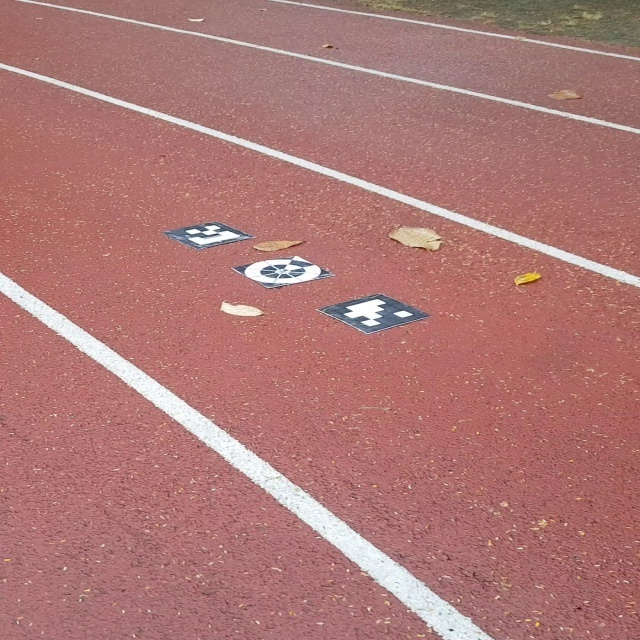landing-zone: (229, 252, 339, 291)
